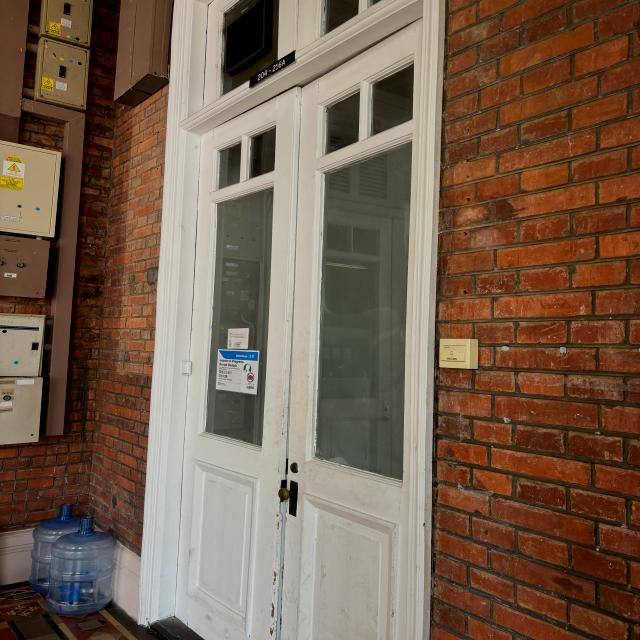MB204_roomNumber: (244, 47, 299, 91)
